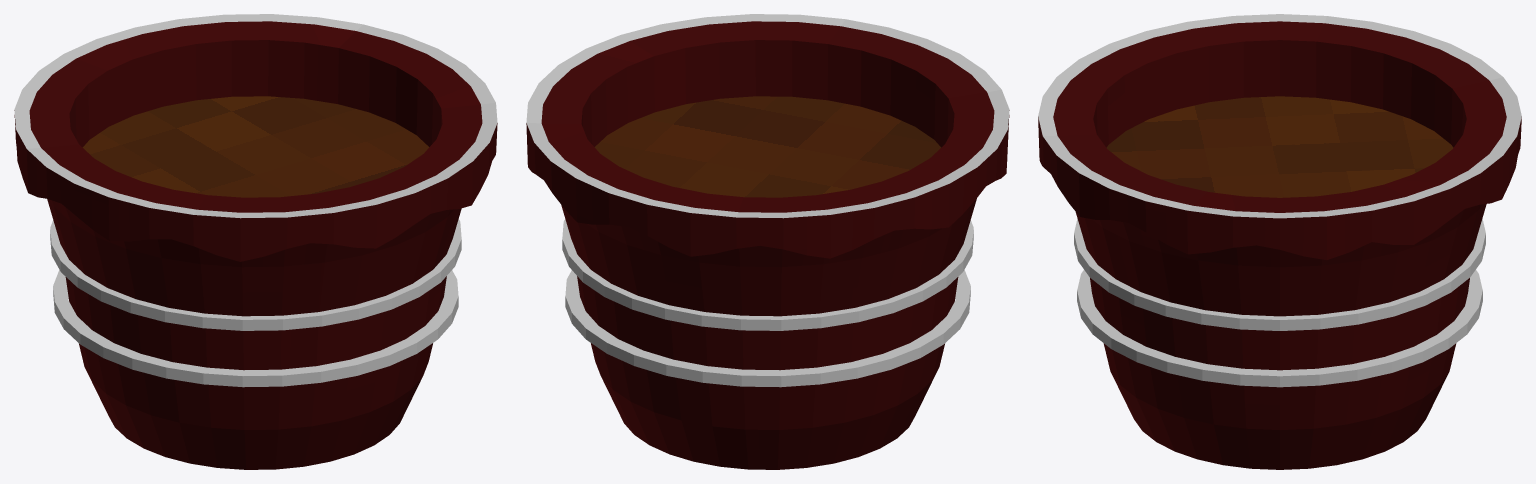
The model's file is luxury_flowerpot.obj.
3 views of the same model, side by side, from view 1: azimuth 30°, elevation 25°; view 2: azimuth 150°, elevation 25°; view 3: azimuth 270°, elevation 25° (orthographic).
Parts seen in each view (by area): view 1: Cylinder; view 2: Cylinder; view 3: Cylinder.
Part boxes in pixels (left/top/right/bottom): Cylinder: left=14, top=14, right=497, bottom=469; Cylinder: left=526, top=14, right=1009, bottom=469; Cylinder: left=1038, top=14, right=1521, bottom=469.
Size of the model in its own units: 2.18 by 1.45 by 2.18.
